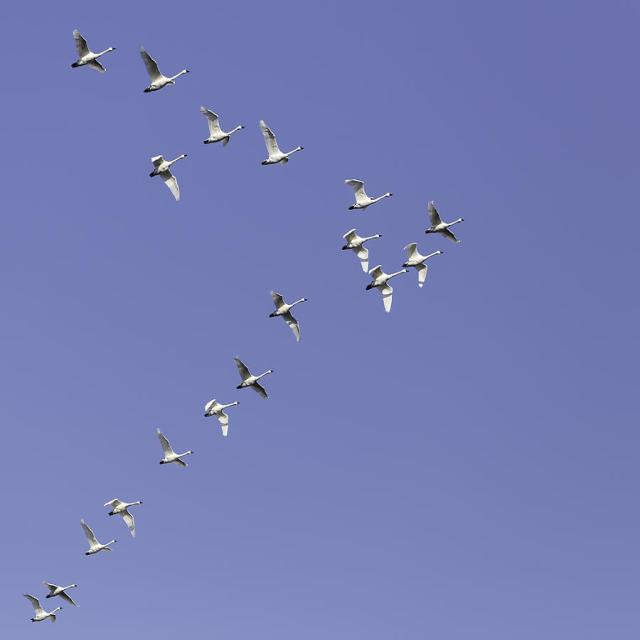bird: (139, 49, 192, 92), (258, 120, 307, 164), (400, 241, 447, 283), (200, 108, 248, 148), (72, 31, 116, 72), (269, 294, 307, 340), (424, 201, 464, 244), (150, 155, 188, 199), (344, 179, 394, 212), (232, 358, 274, 396), (363, 269, 398, 314), (338, 226, 381, 260), (154, 429, 192, 466), (79, 521, 116, 558), (202, 400, 238, 437), (106, 498, 141, 536), (24, 594, 64, 624), (41, 582, 78, 606)
